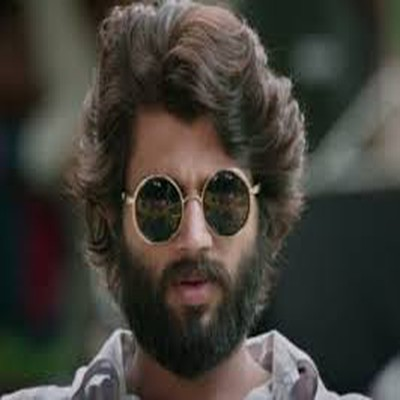eywear: (122, 145, 266, 250)
